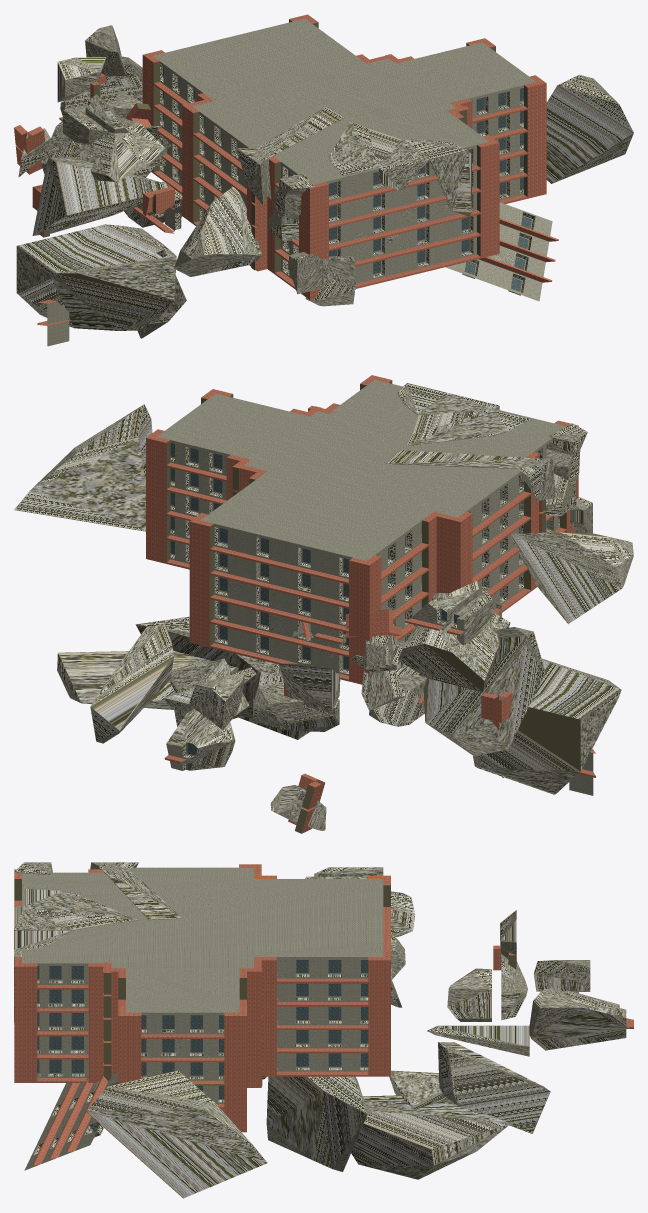
File: BreakBuilding.gltf
The picture shows the model from 3 angles, top to bottom: view 1: azimuth 30°, elevation 25°; view 2: azimuth 150°, elevation 25°; view 3: azimuth 270°, elevation 25°; orthographic projection. The views are drawn at different scales.
Visible parts, largest first — view 1: building_003, building_003.001; view 2: building_003, building_003.001; view 3: building_003, building_003.001.
Boxes of the visible parts, box(x1,y1,x2,y2) form: building_003: box(14, 14, 633, 346); building_003.001: box(142, 50, 499, 297); building_003: box(14, 375, 633, 833); building_003.001: box(189, 380, 578, 679); building_003: box(14, 862, 633, 1198); building_003.001: box(14, 869, 390, 1062).
Bounding box in the file's own units: 69.31 × 27.3 × 65.13.
3 materials, 3 textured.
